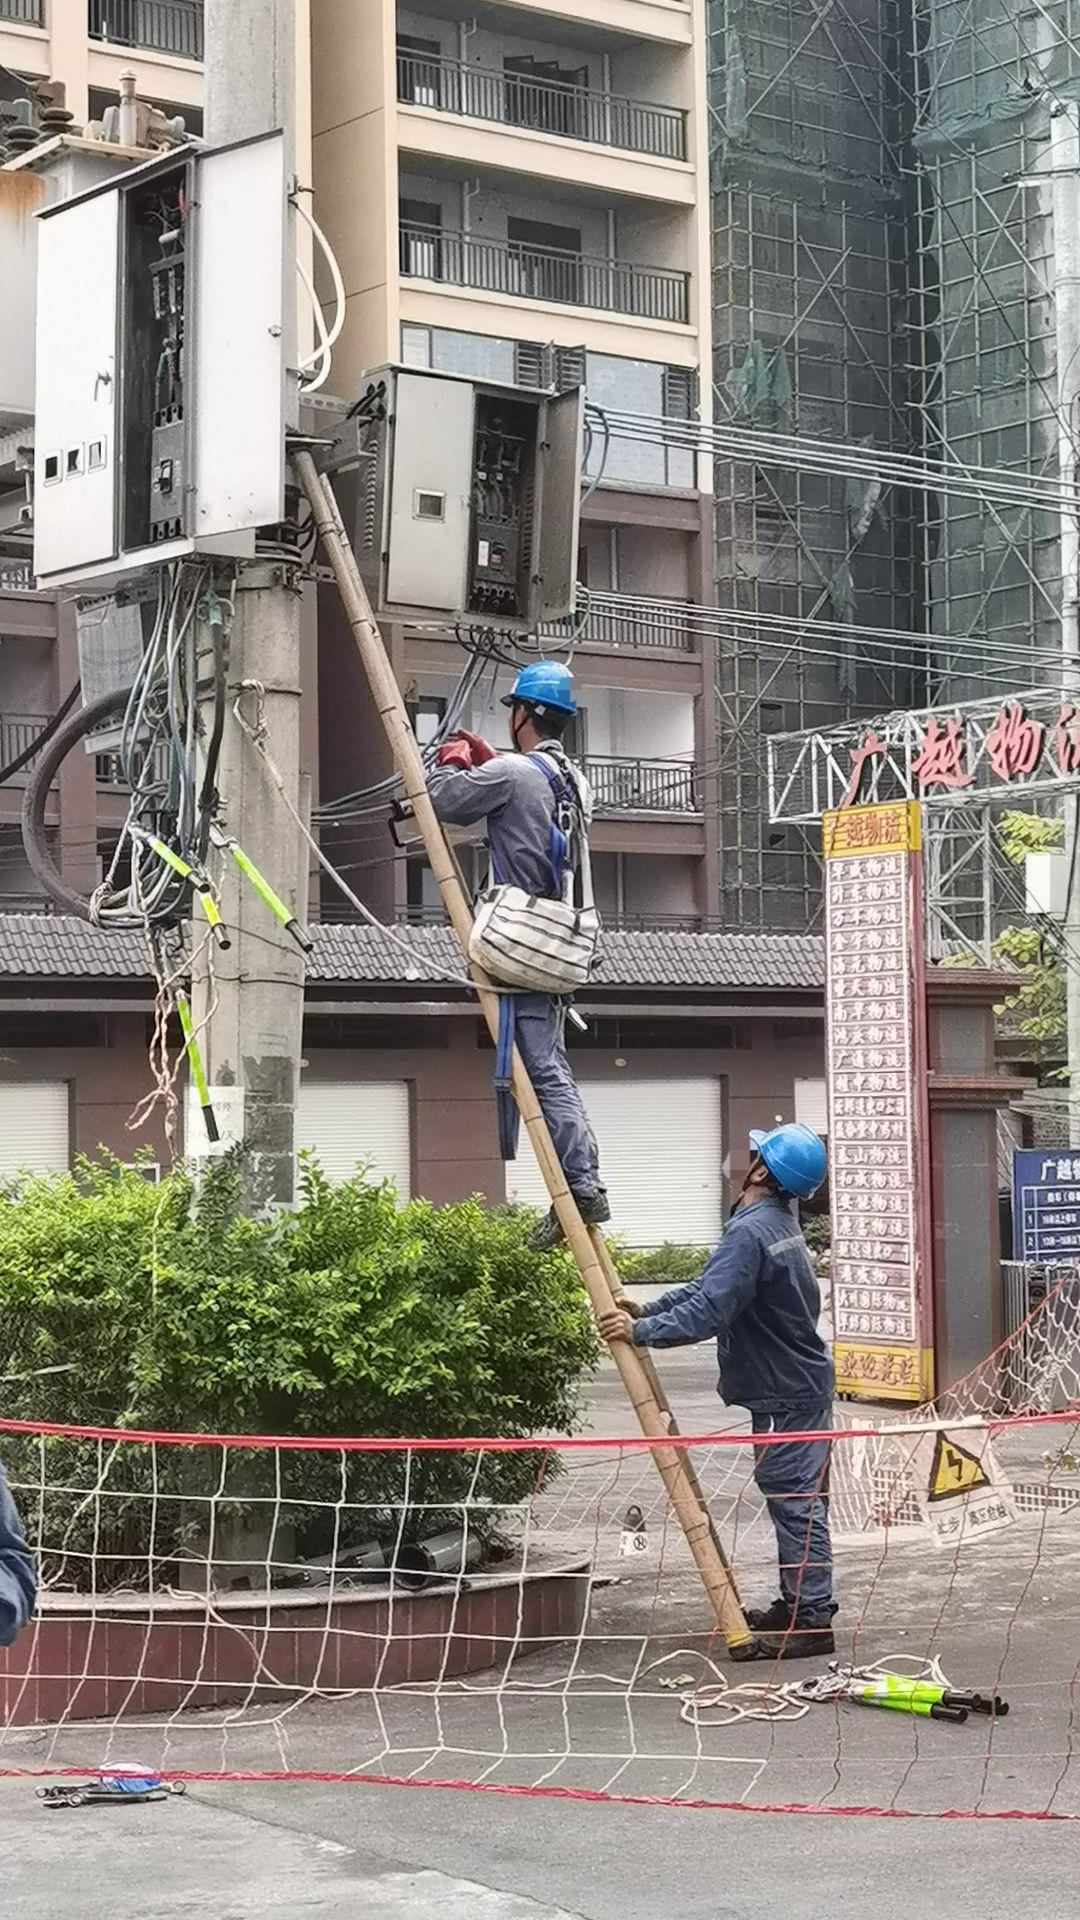halt: (737, 1125, 829, 1204), (505, 662, 587, 746)
inear: (745, 1160, 782, 1203), (512, 702, 545, 745)
